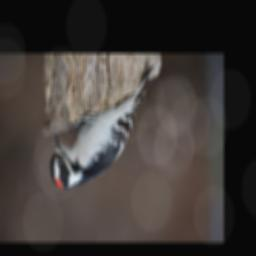Woodpecker: (48, 63, 155, 191)
